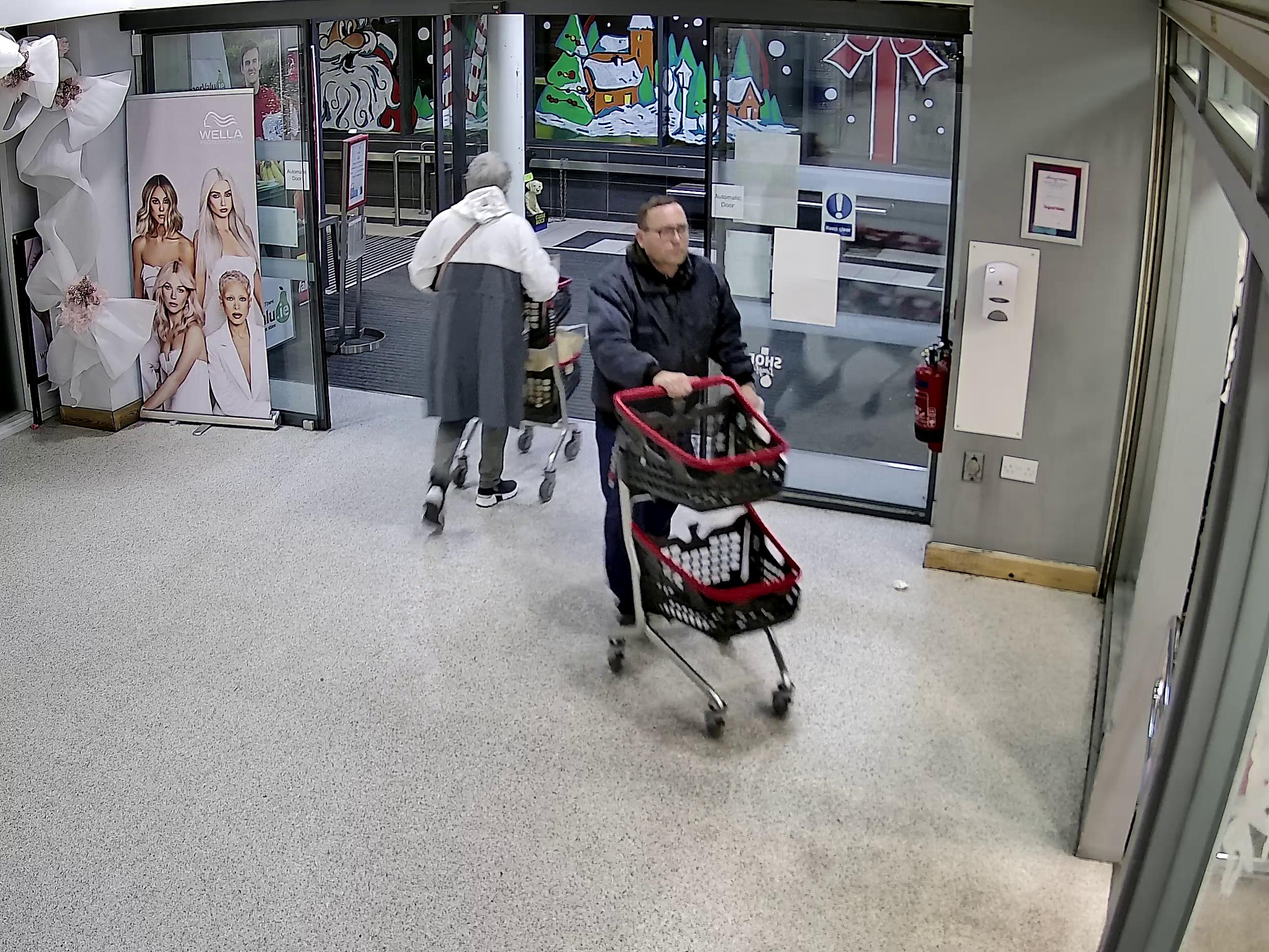empty-trolly: (607, 372, 803, 731)
filled-trolly: (454, 268, 583, 501)
person: (585, 192, 765, 621), (408, 151, 561, 533)
person-with-empty-basket-trolly: (586, 191, 805, 733)
person-with-filled-basket-trolly: (408, 151, 584, 534)
